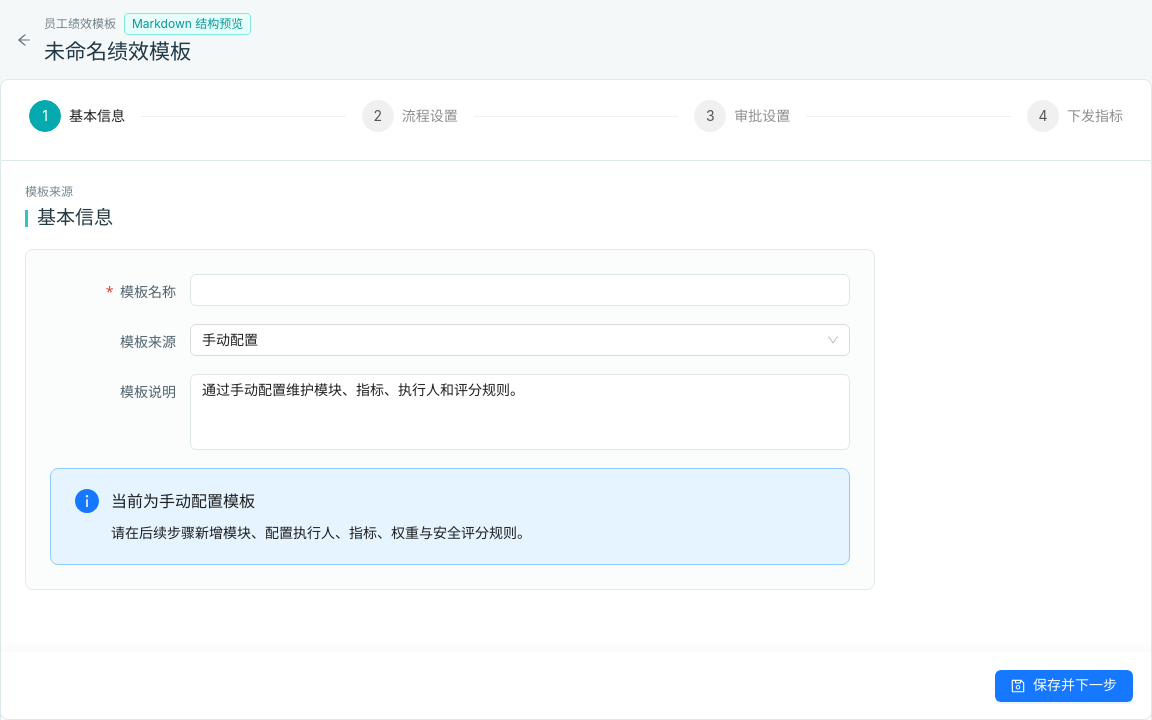
Scenario: PerformanceTemplateEditorPage › converts parsed business achievement to an evaluation configured in process settings
This screenshot has width=1152, height=720.
Click the dropdown labelled "模板来源 手动配置".
click(450, 340)  # box [50,324,850,356]
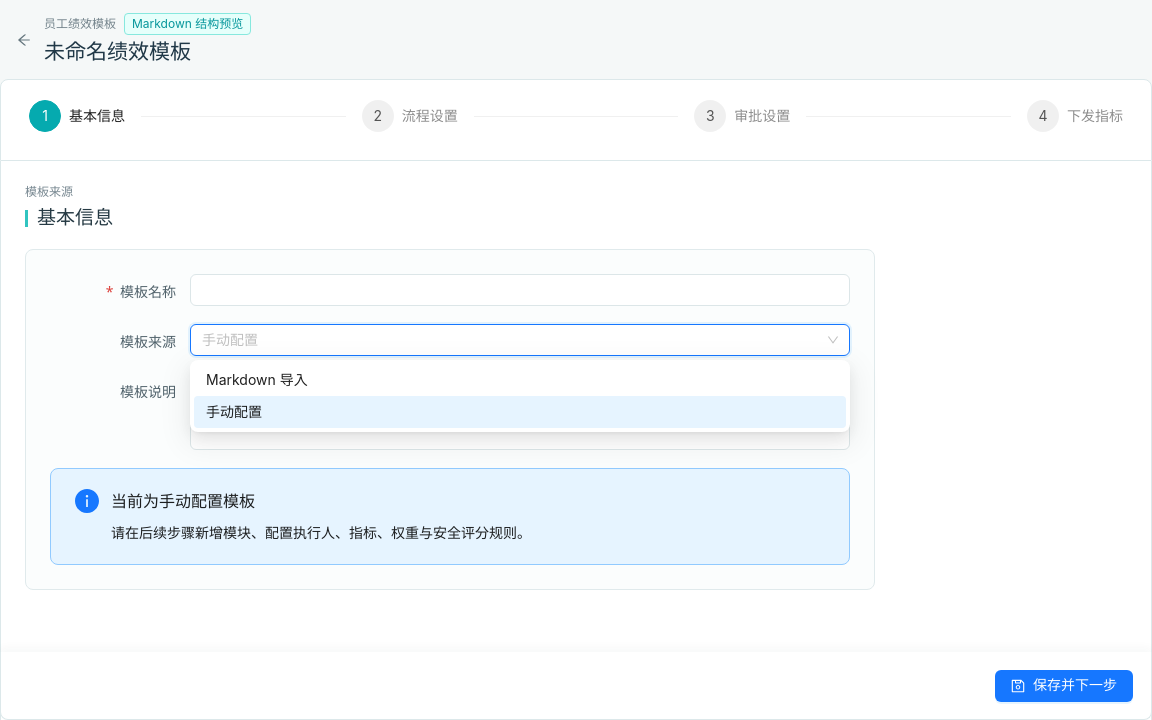
Click the text "Markdown 导入".
click(257, 380)  # box [206,371,308,388]
(page scrolled)
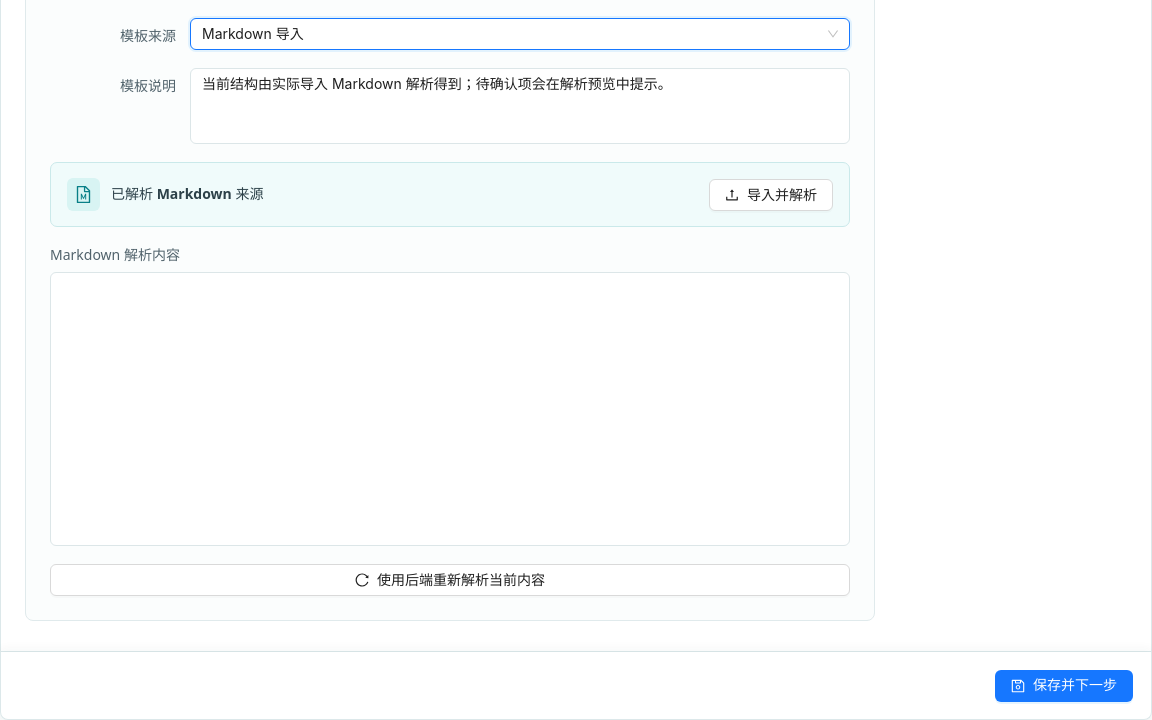
Click the button "使用后端重新解析当前内容".
click(450, 580)  # box [50,564,850,596]
(page scrolled)
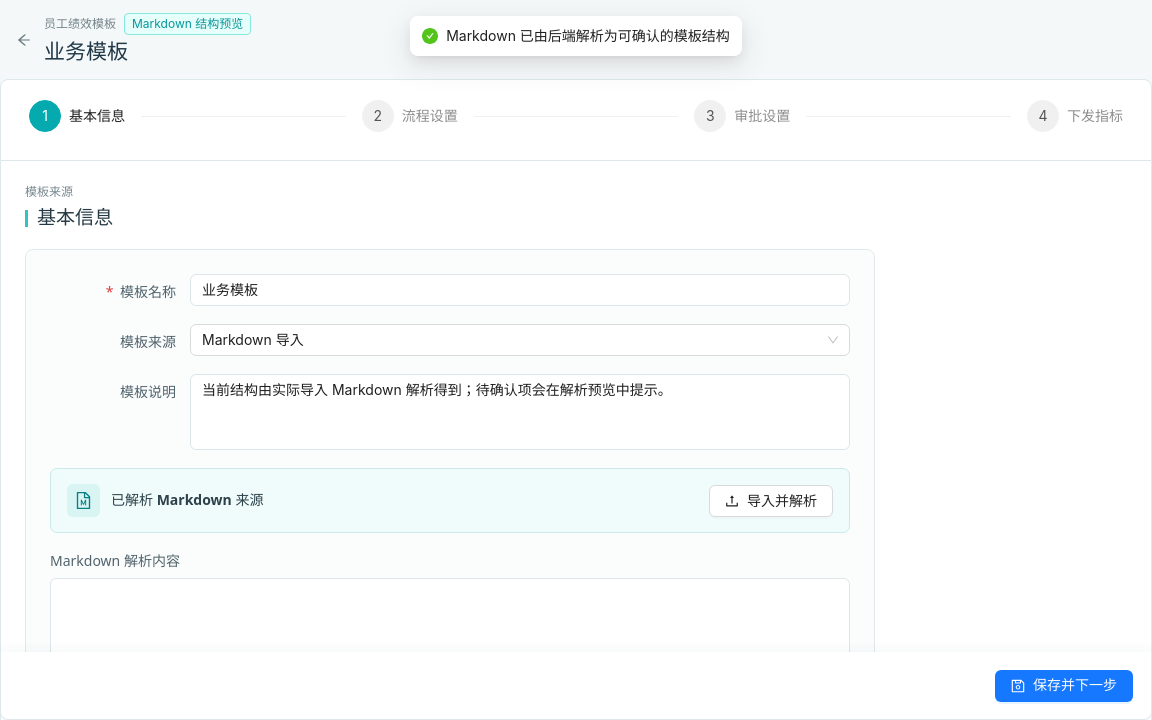
Check: the heading "业务模板" is shown, box [44,37,128,65]
Click the text "流程设置".
click(438, 116)  # box [402,100,474,132]
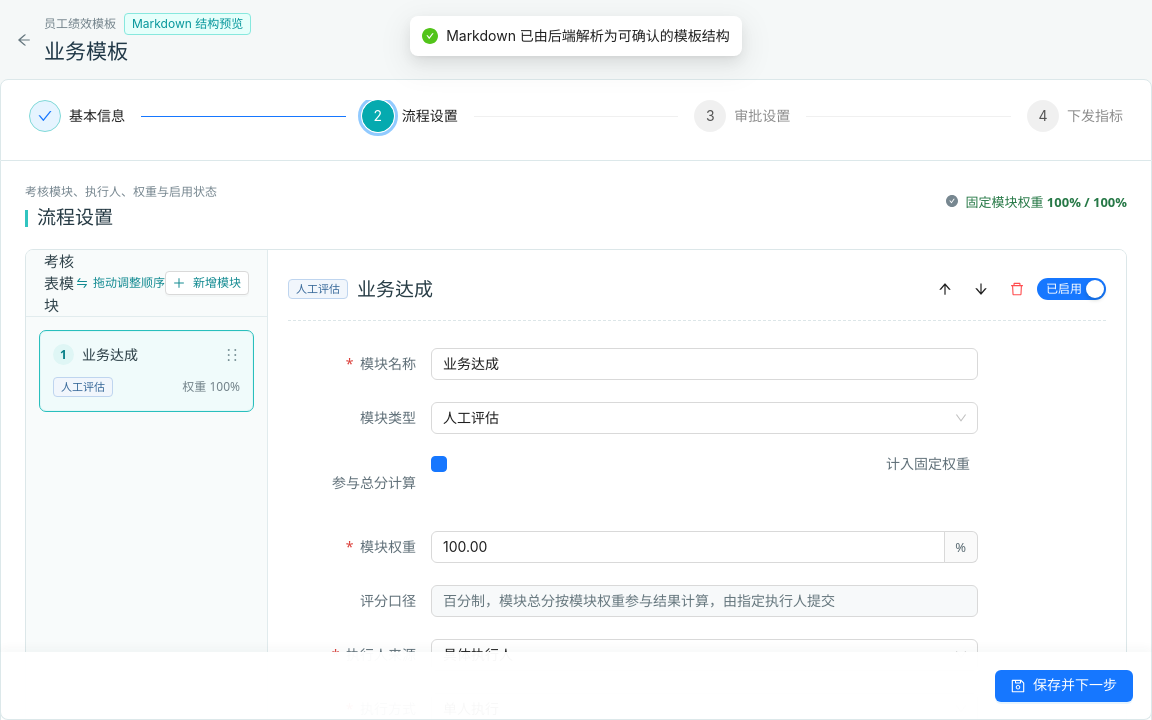
Check: the heading "业务达成" is shown, box [357,275,433,303]
Check: the search field named "考核执行人来源" is shown, box [288,637,978,673]
